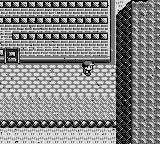main: (82, 61, 95, 75)
no-caminable: (1, 0, 111, 63), (116, 0, 160, 143)
puerta: (6, 49, 18, 63)
salto: (1, 120, 117, 127)
